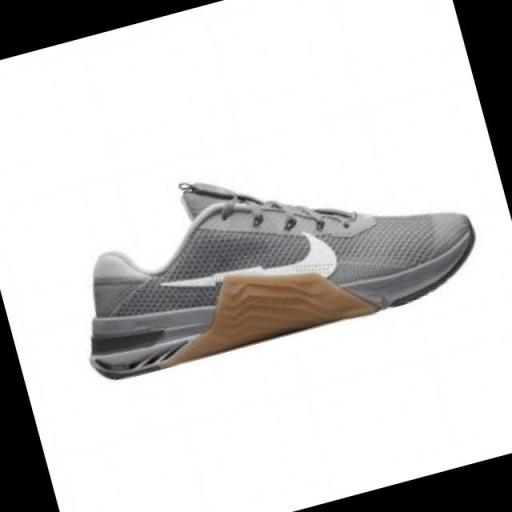Nike: (149, 224, 342, 326)
